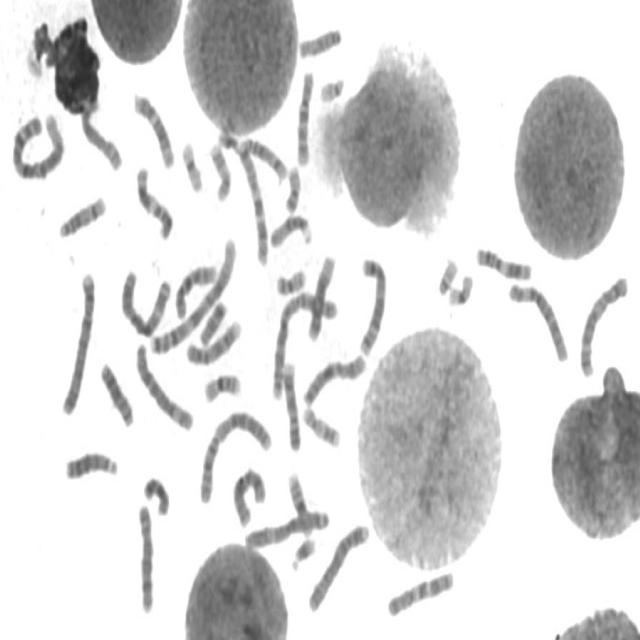A1: (146, 231, 239, 357), (8, 107, 67, 182)
A2: (268, 285, 340, 402), (196, 403, 274, 505)
A3: (117, 264, 173, 339), (242, 504, 331, 551)
B4: (305, 517, 371, 615), (58, 264, 98, 418)
B5: (577, 268, 631, 379), (356, 250, 389, 358)
C10: (172, 257, 219, 320), (293, 64, 316, 168)
C11: (133, 160, 175, 242), (473, 240, 534, 282)
C12: (130, 86, 177, 170), (304, 248, 337, 343)
C6: (132, 337, 196, 433), (505, 276, 571, 364)
C7: (236, 135, 270, 268), (384, 564, 456, 620)
C8: (80, 100, 124, 176), (134, 497, 156, 616)
C9: (183, 313, 243, 368), (280, 356, 302, 454)
D13: (97, 356, 136, 428), (62, 444, 120, 482)
D14: (236, 132, 289, 183), (56, 189, 108, 240)
D15: (267, 207, 315, 250), (296, 21, 344, 60)
E16: (285, 467, 313, 538), (201, 367, 243, 404)
E17: (300, 399, 342, 450), (207, 137, 233, 203)
E18: (196, 295, 228, 346), (140, 470, 171, 518)
F19: (178, 135, 205, 195), (445, 267, 475, 308)
F20: (274, 262, 308, 297), (282, 159, 302, 214)
G21: (288, 530, 318, 572), (215, 121, 242, 158)
G22: (435, 252, 460, 297), (317, 71, 346, 103)
X: (300, 348, 368, 409), (229, 461, 268, 529)
